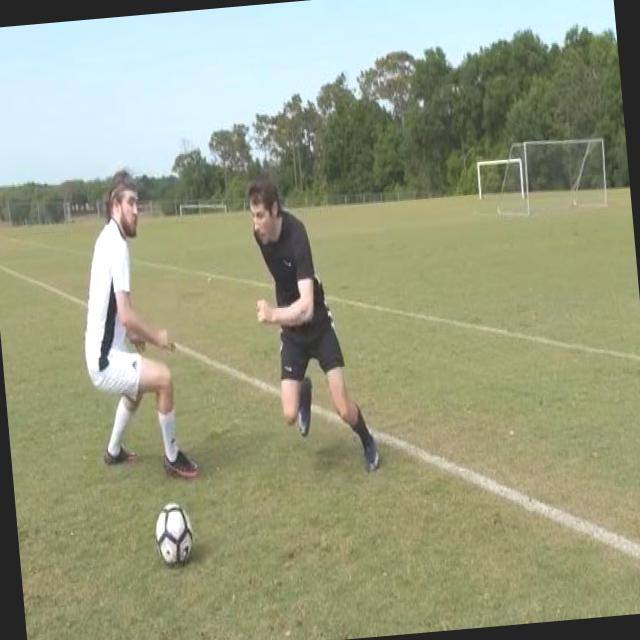Soccer Ball: (153, 499, 196, 566)
